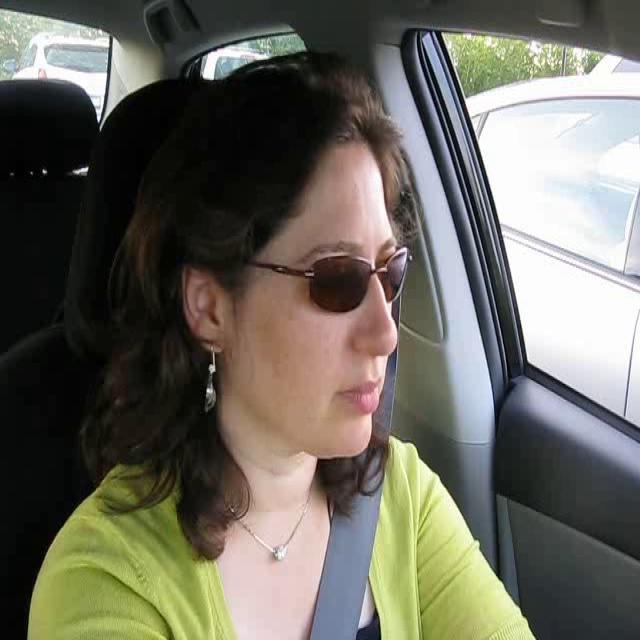close: (334, 372, 384, 417)
